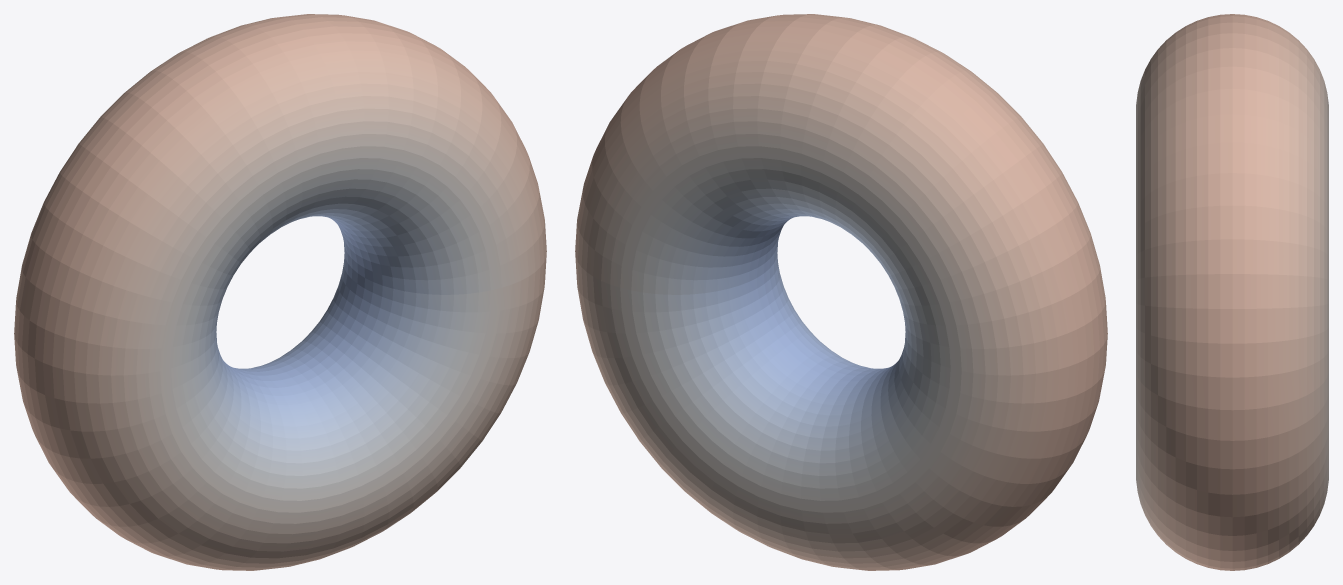
The picture shows the model from 3 angles, left to right: view 1: azimuth 30°, elevation 25°; view 2: azimuth 150°, elevation 25°; view 3: azimuth 270°, elevation 25°; orthographic projection. The views are drawn at different scales.
Parts seen in each view (by area): view 1: world; view 2: world; view 3: world.
Part boxes in pixels (x1,y1,x2,y2): world: (14, 14, 546, 570); world: (575, 14, 1107, 570); world: (1136, 14, 1328, 570).
Bounding box in the file's own units: 23.47 × 23.42 × 8.12.
